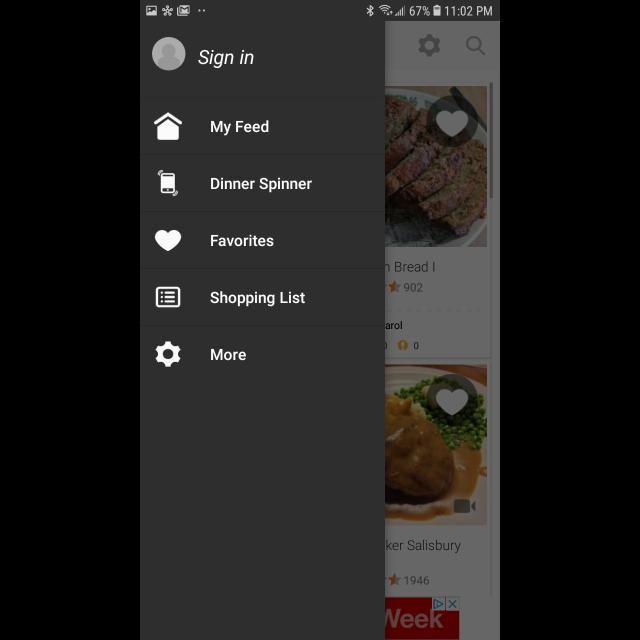icon: (152, 37, 186, 71), (154, 112, 182, 140), (155, 341, 181, 367), (154, 230, 182, 252), (156, 286, 180, 308)
image: (158, 170, 178, 196)
panel: (141, 22, 385, 640)
text: (210, 291, 306, 307), (212, 178, 312, 192), (198, 50, 254, 70), (211, 120, 269, 136), (210, 235, 274, 247), (212, 349, 246, 361)
uppertaskbar: (140, 1, 500, 22)
